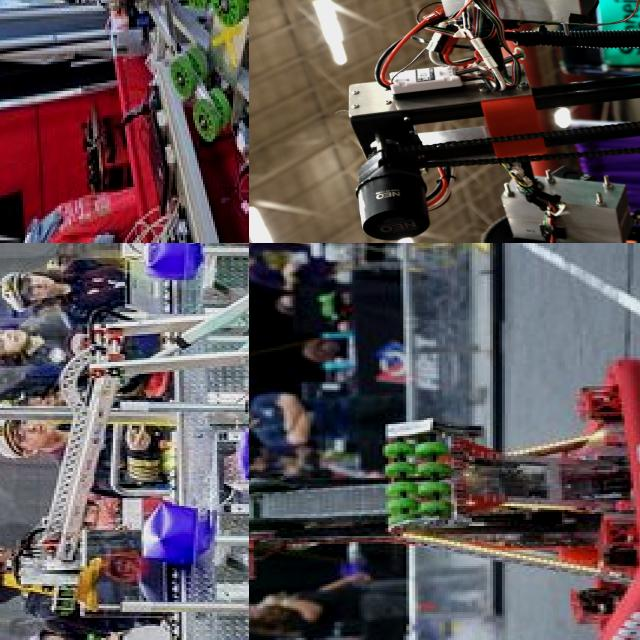FRC-Robots: (249, 287, 640, 640), (9, 243, 249, 601), (296, 0, 640, 243), (63, 0, 249, 175)
